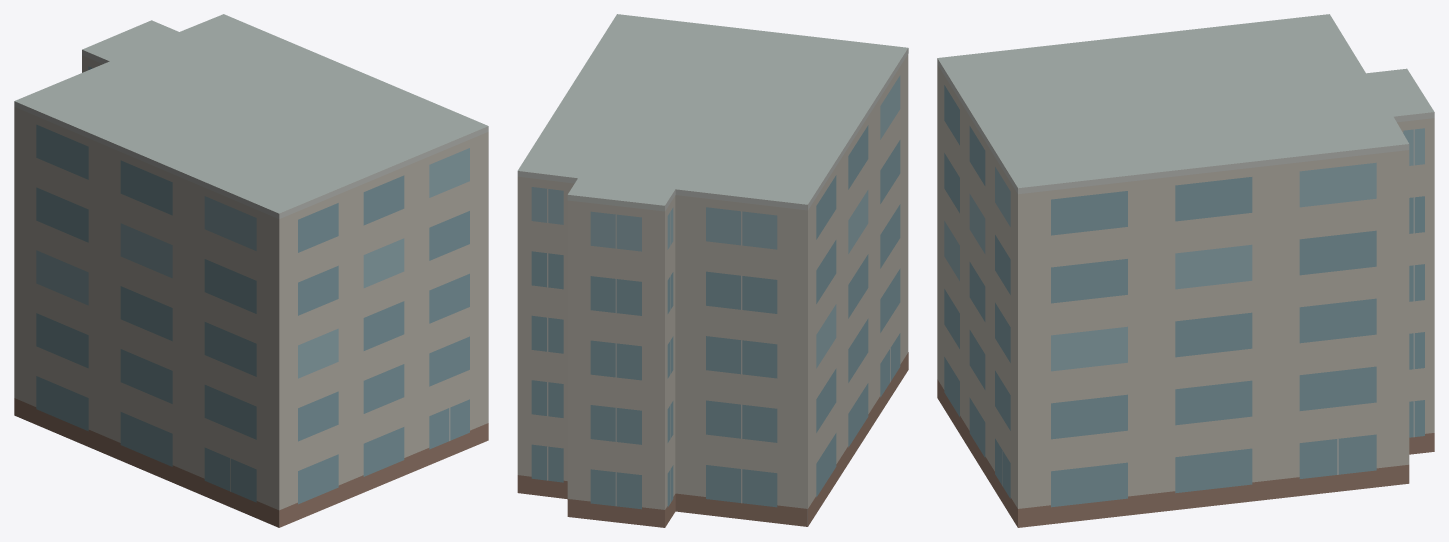
The model's file is survey-upis-32938285.glb.
3 renders of one model, left to right at view 1: azimuth 30°, elevation 25°; view 2: azimuth 150°, elevation 25°; view 3: azimuth 270°, elevation 25°, orthographic. The views are drawn at different scales.
Parts seen in each view (by area): view 1: survey-upis-32938285.tmp; view 2: survey-upis-32938285.tmp; view 3: survey-upis-32938285.tmp.
Part boxes in pixels (x1=…): survey-upis-32938285.tmp: x1=14, y1=14, x2=488, y2=527; survey-upis-32938285.tmp: x1=517, y1=14, x2=908, y2=527; survey-upis-32938285.tmp: x1=937, y1=14, x2=1434, y2=527.
Size of the model in its own units: 15.08 by 13.7 by 18.19.
